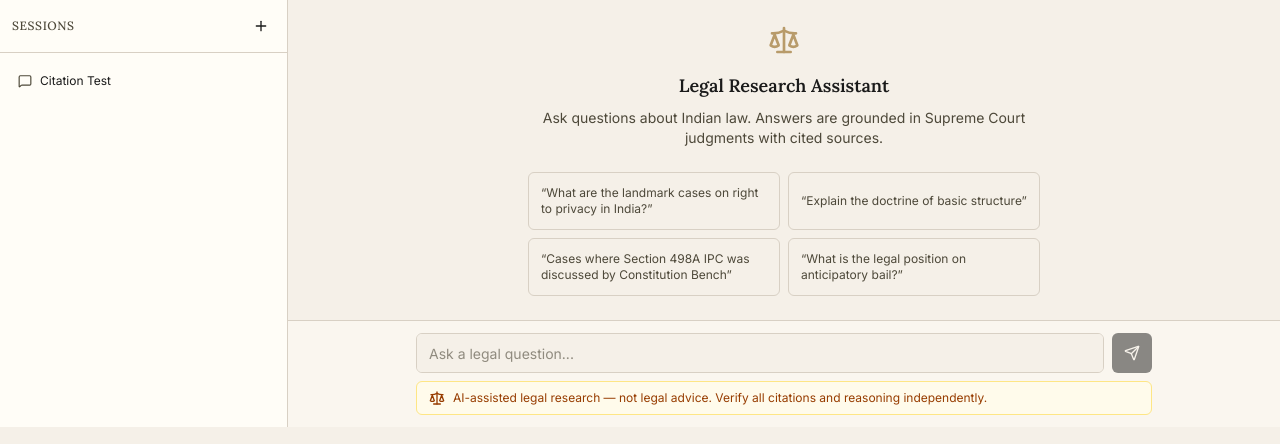
ChatPage › renders citation link [1] as a clickable anchor
The image size is (1280, 444).
Step 1. Click the text "Citation Test" → (76,80), box [40,73,111,88]
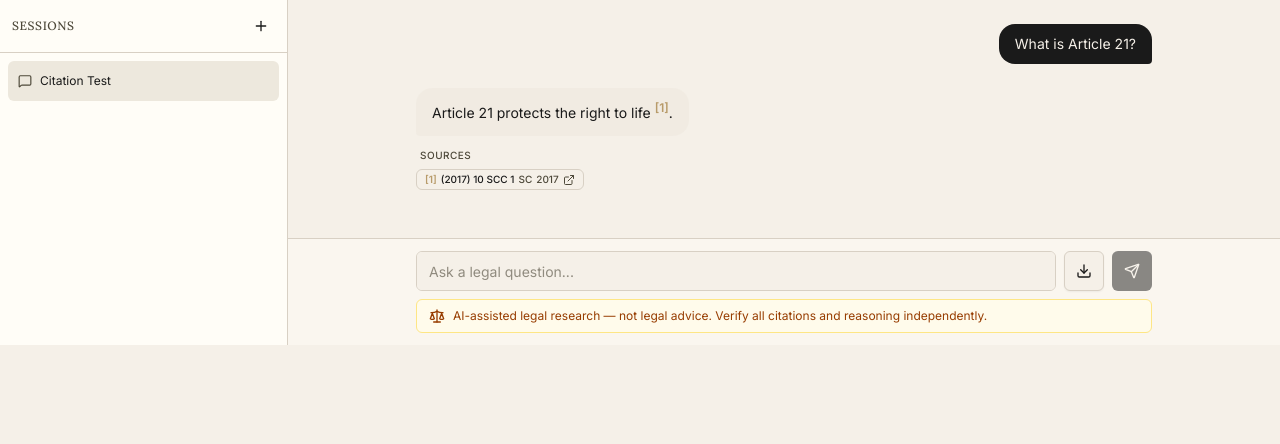
Now the link "[1]" is shown, box [655,100,669,115]
